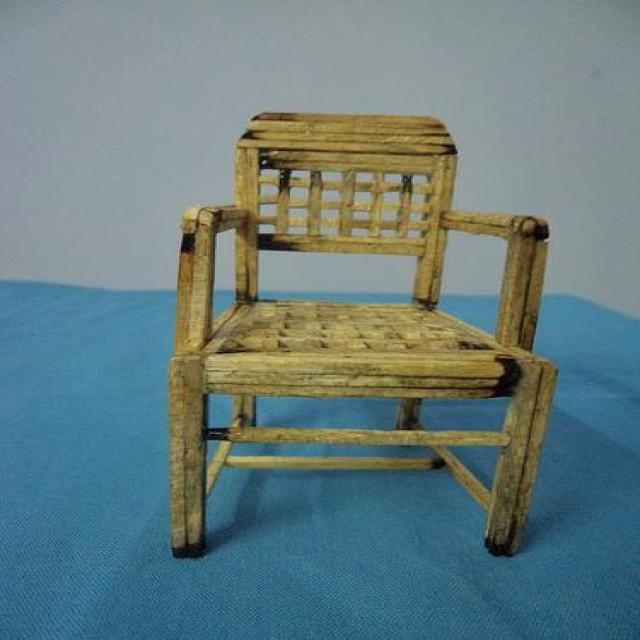chair: (166, 110, 558, 558)
